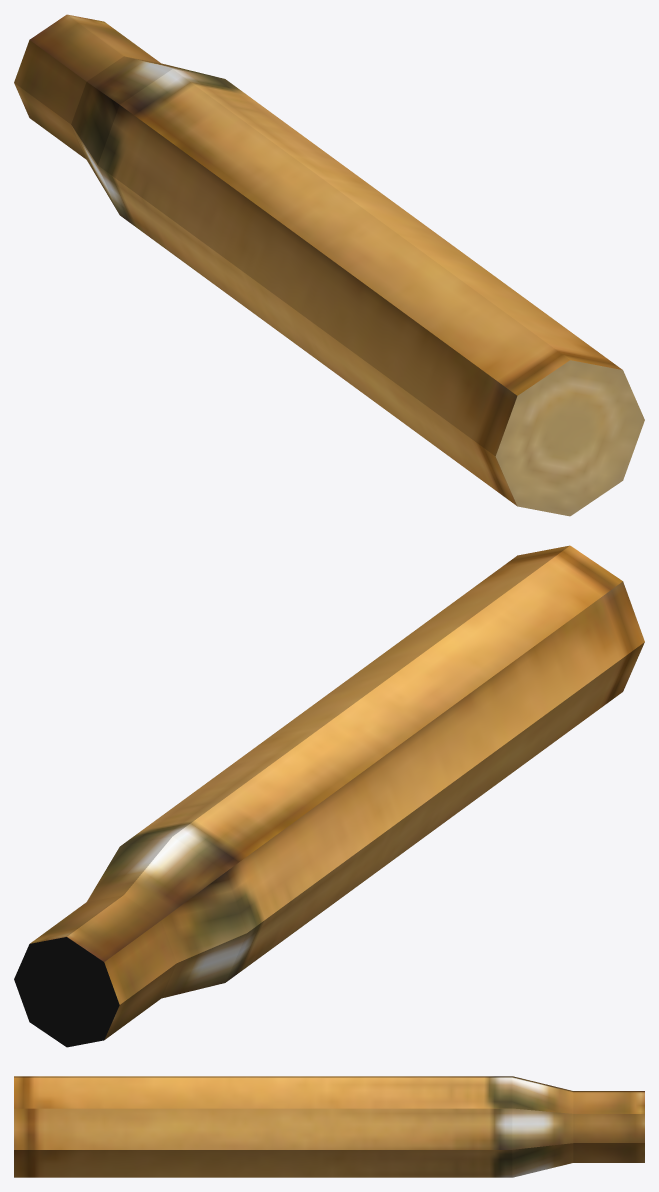
File: shell_rifle.glb
3 views of the same model, one above another, from view 1: azimuth 30°, elevation 25°; view 2: azimuth 150°, elevation 25°; view 3: azimuth 270°, elevation 25° (orthographic). The views are drawn at different scales.
Parts seen in each view (by area): view 1: .223 shell; view 2: .223 shell; view 3: .223 shell.
Boxes of the visible parts, x1,y1,x2,y2 form: .223 shell: [14, 14, 644, 516]; .223 shell: [14, 545, 644, 1047]; .223 shell: [14, 1076, 644, 1177].
Bounding box in the file's own units: 0.0175 × 0.0175 × 0.1021.
Materials: 1 (1 with a texture image).
